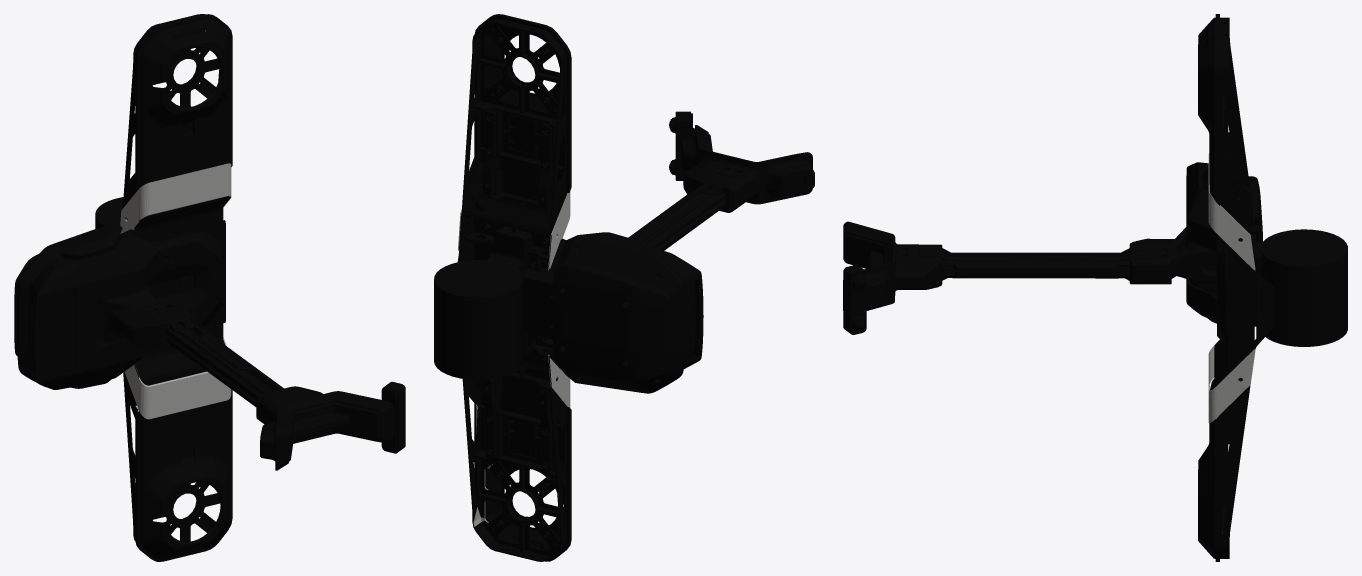
File: torso_link3.obj
3 renders of one model, left to right at view 1: azimuth 30°, elevation 25°; view 2: azimuth 150°, elevation 25°; view 3: azimuth 270°, elevation 25°, orthographic. The views are drawn at different scales.
Visible parts, largest first — view 1: torso_link3; view 2: torso_link3; view 3: torso_link3.
Part boxes in pixels (x1,y1,x2,y2): torso_link3: (14, 14, 405, 561); torso_link3: (434, 14, 814, 561); torso_link3: (843, 14, 1347, 561).
Size of the model in its own units: 0.3425 by 0.825 by 0.7202.
